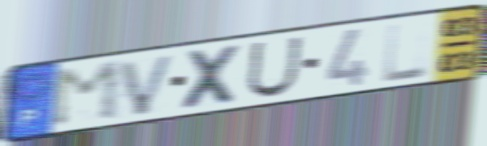4: (325, 26, 371, 90)
L: (382, 20, 429, 85)
M: (50, 58, 124, 130)
U: (244, 34, 306, 100)
V: (116, 51, 179, 119)
X: (178, 42, 246, 112)
